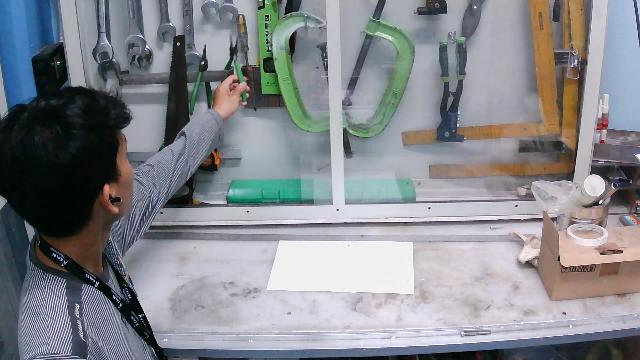tang_cucut_lancip_1: (215, 29, 251, 109)
